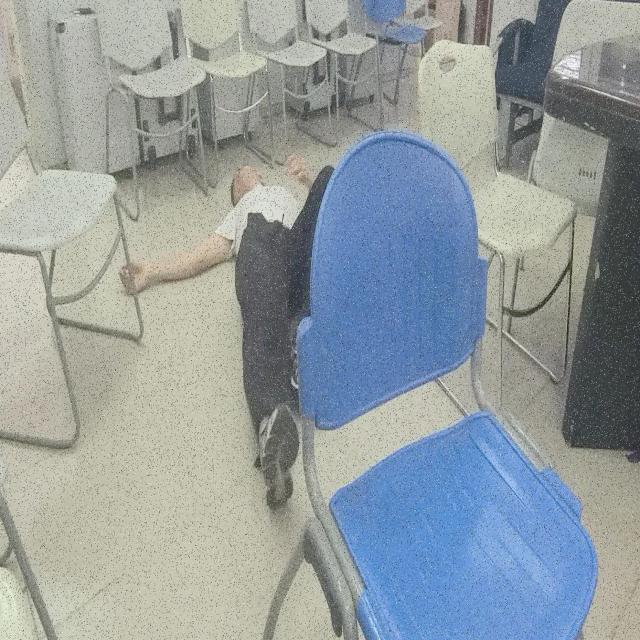fall: (118, 153, 338, 513)
